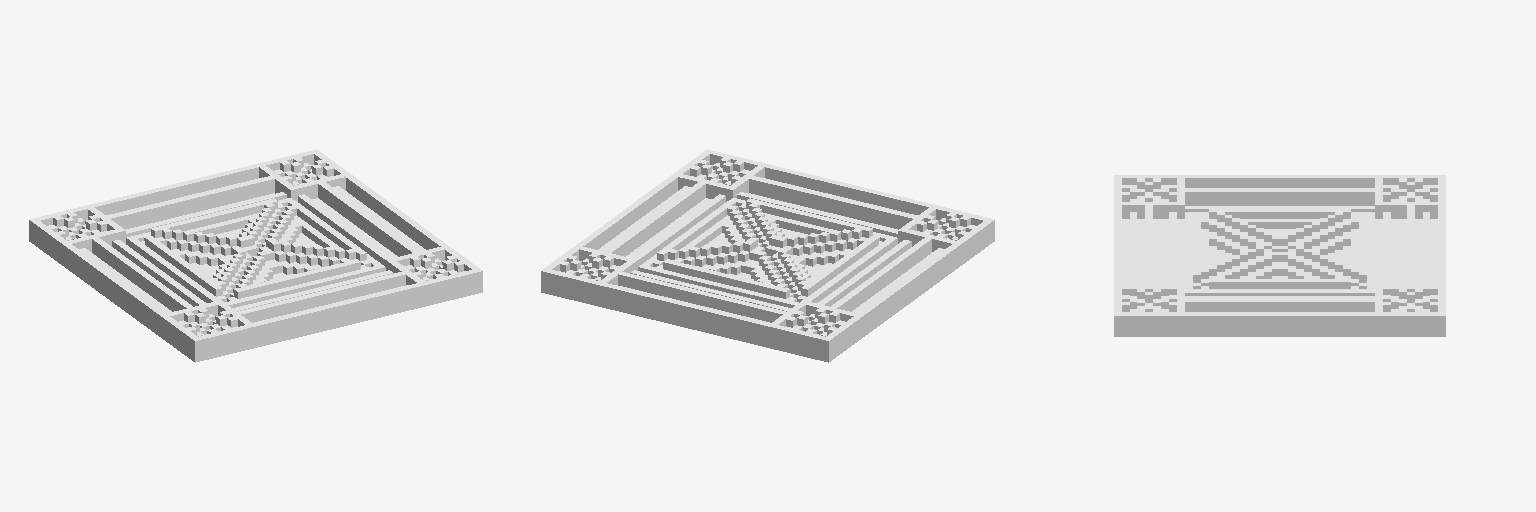
File: Corner-0.obj
3 renders of one model, left to right at view 1: azimuth 30°, elevation 25°; view 2: azimuth 150°, elevation 25°; view 3: azimuth 270°, elevation 25°, orthographic.
Visible parts, largest first — view 1: Corner-0; view 2: Corner-0; view 3: Corner-0.
Part boxes in pixels (bbox=[...]): Corner-0: bbox=[29, 149, 482, 362]; Corner-0: bbox=[541, 149, 994, 362]; Corner-0: bbox=[1114, 175, 1445, 336].
Bounding box in the file's own units: 42 × 3 × 42.